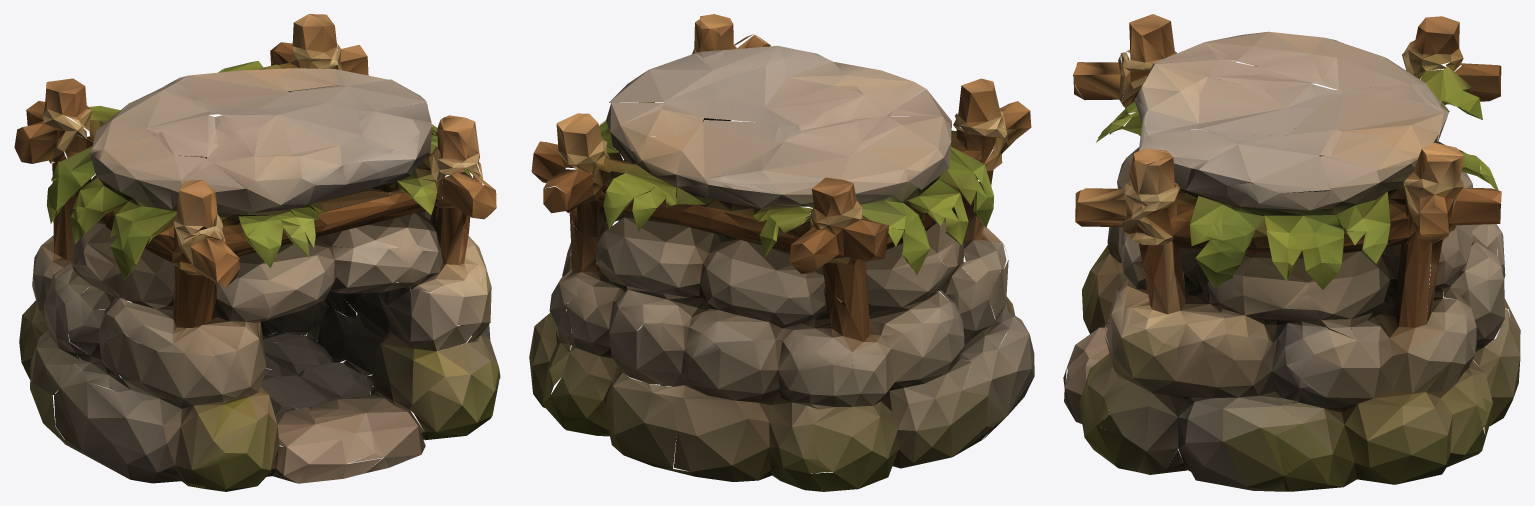
File: building-stove.glb
3 renders of one model, left to right at view 1: azimuth 30°, elevation 25°; view 2: azimuth 150°, elevation 25°; view 3: azimuth 270°, elevation 25°, orthographic. The views are drawn at different scales.
Visible parts, largest first — view 1: 0_stove; view 2: 0_stove; view 3: 0_stove.
Boxes of the visible parts, x1,y1,x2,y2 form: 0_stove: (14,14,500,491); 0_stove: (529,14,1034,491); 0_stove: (1063,14,1520,491).
Size of the model in its own units: 1.83 by 1.25 by 1.68.
